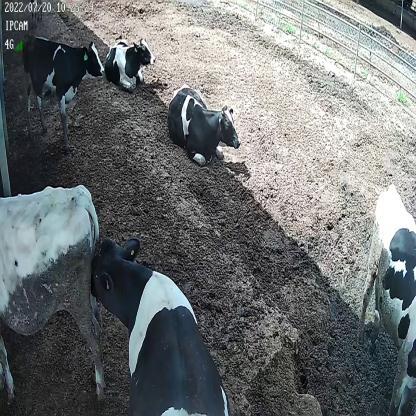cow: (89, 232, 233, 416), (18, 25, 104, 152), (166, 81, 243, 170), (104, 31, 158, 93)
